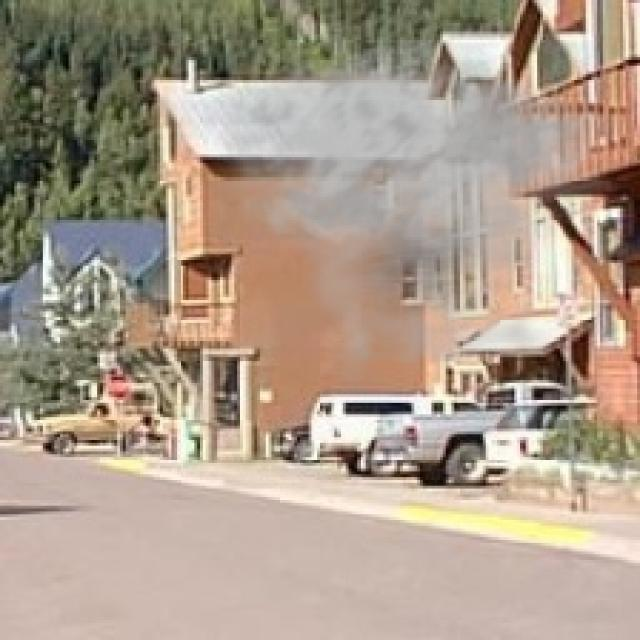smoke: (206, 37, 631, 397)
